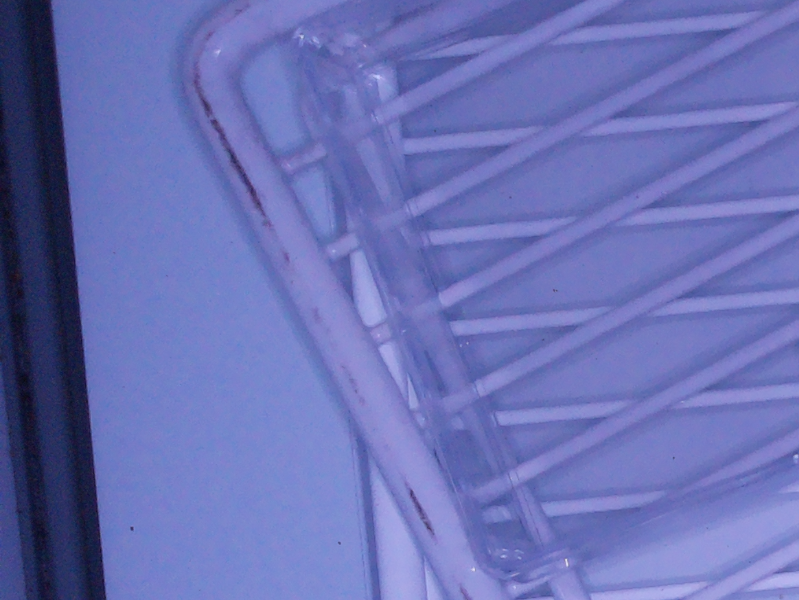plate: (289, 1, 799, 582)
